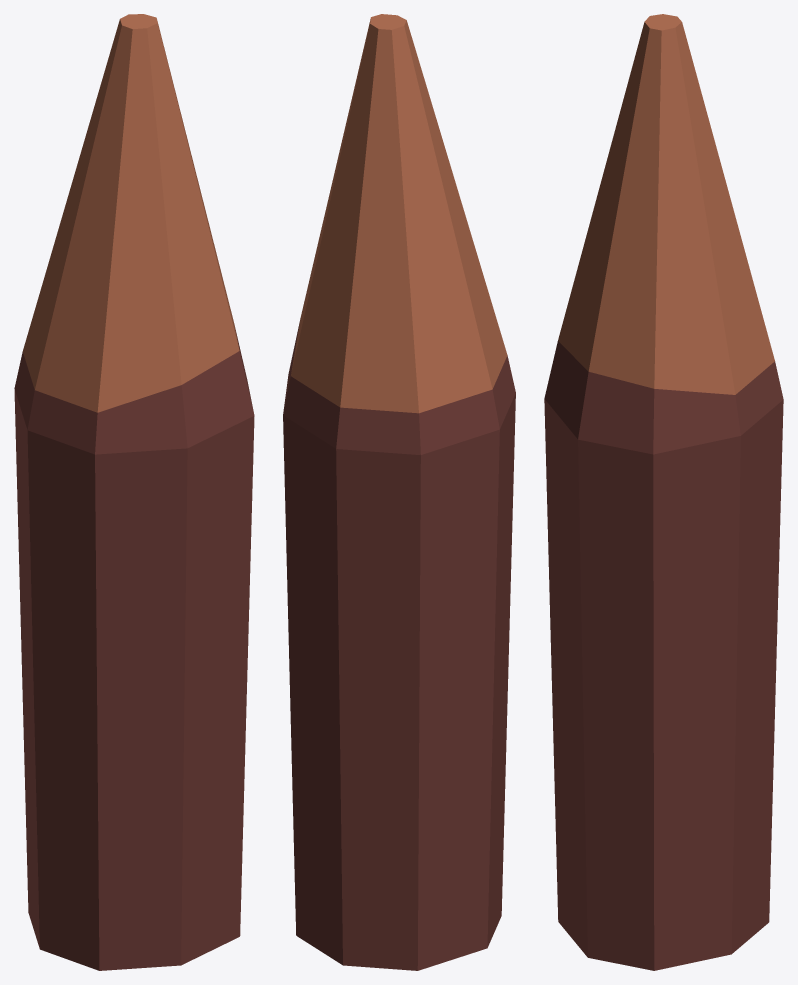
Rendered from Wooden Pole Sharp 08.fbx.
The picture shows the model from 3 angles, left to right: view 1: azimuth 30°, elevation 25°; view 2: azimuth 150°, elevation 25°; view 3: azimuth 270°, elevation 25°; orthographic projection.
Visible parts, largest first — view 1: Wooden Pole Sharp 08; view 2: Wooden Pole Sharp 08; view 3: Wooden Pole Sharp 08.
Boxes of the visible parts, <box> form: Wooden Pole Sharp 08: <box>14,14,254,970</box>; Wooden Pole Sharp 08: <box>283,14,515,970</box>; Wooden Pole Sharp 08: <box>544,14,783,970</box>.
Bounding box in the file's own units: 32.91 × 132 × 31.57.
